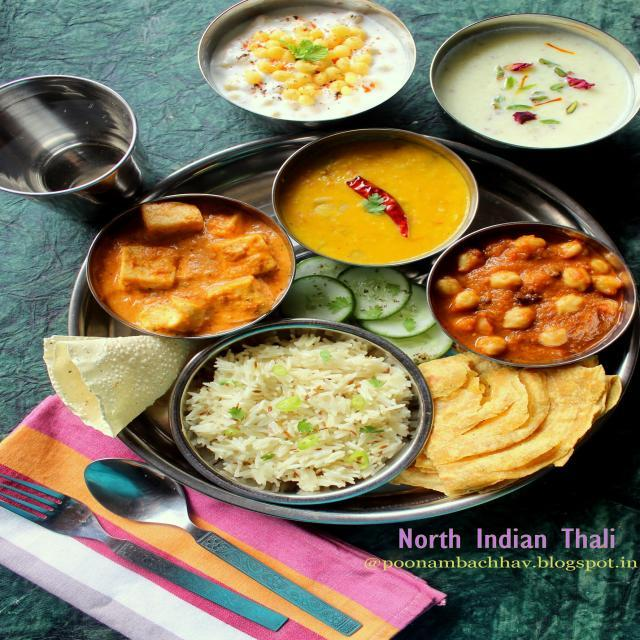dal: (270, 140, 475, 267)
papad: (29, 326, 184, 433)
rice: (173, 339, 421, 489)
roti: (164, 339, 428, 492), (410, 355, 601, 491)
sweet: (429, 24, 634, 149)
veg-fry: (203, 7, 412, 122)
